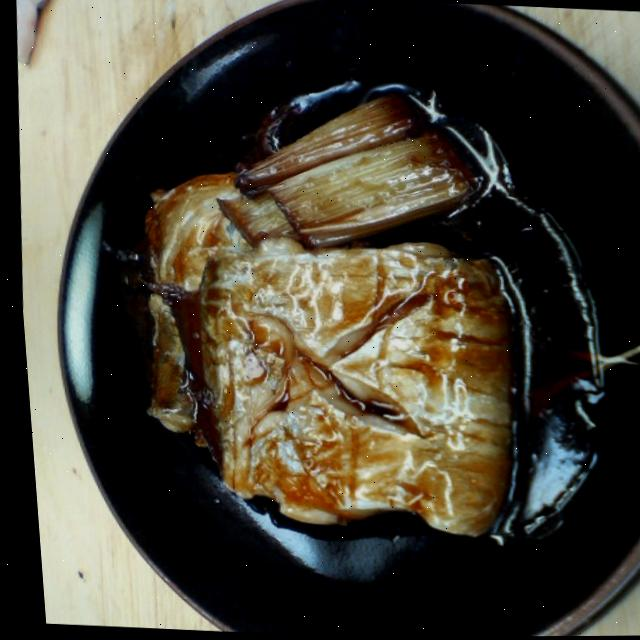熟制海鲜: (14, 245, 587, 622)
